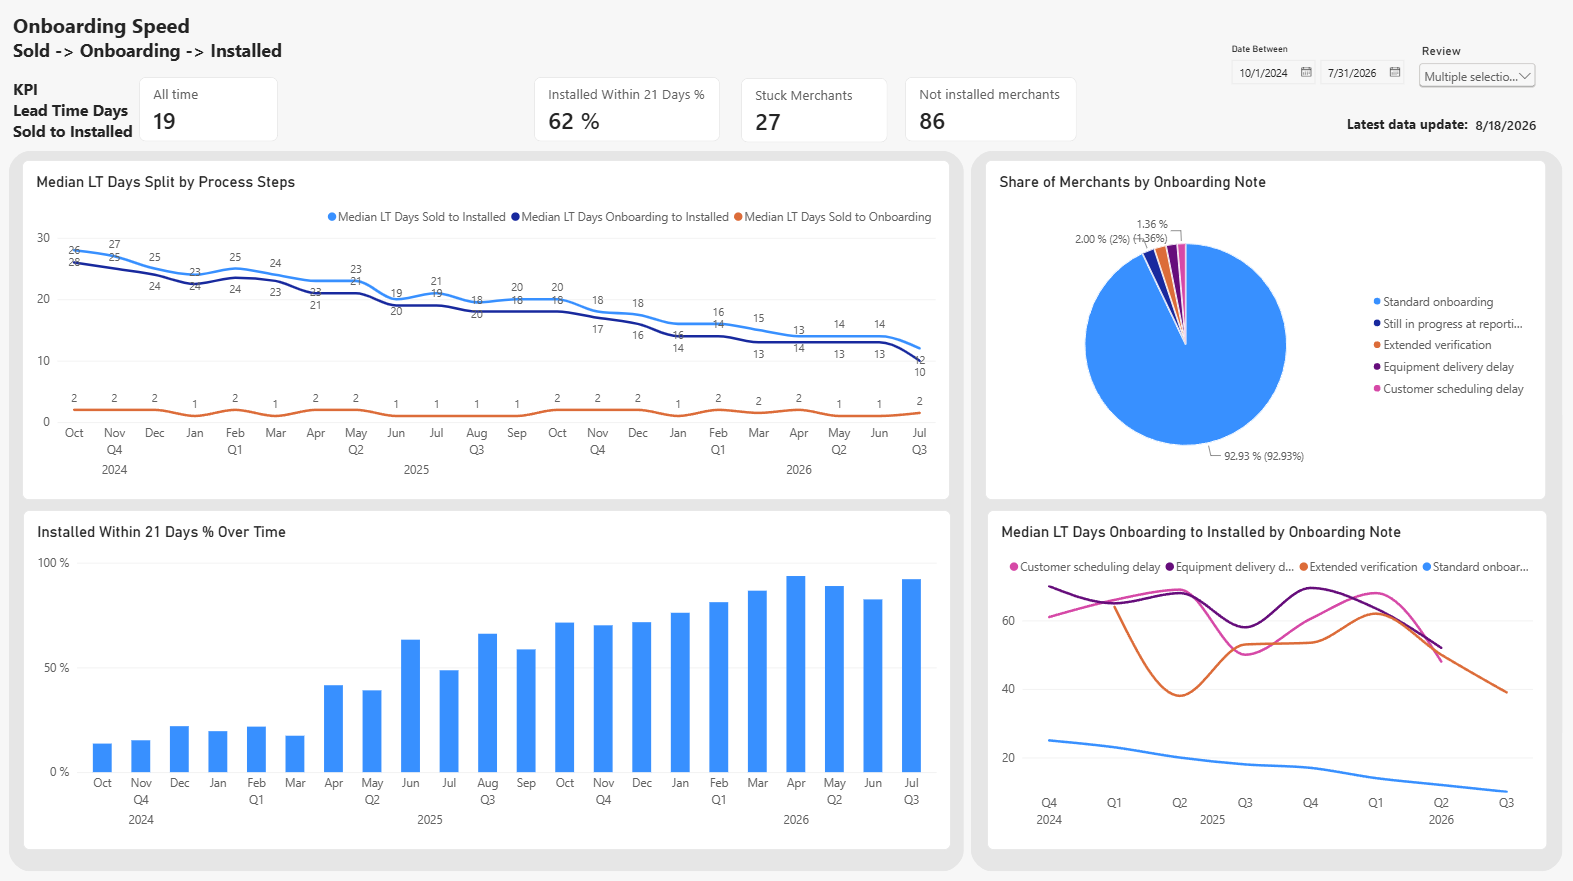

Layout of this report page (visuals, bound fields, positions):
{"tool":"powerbi","page":{"name":"Onboarding Speed","canvas":[1920,1080],"ordinal":4},"visuals":[{"type":"textbox","box":[1628.8,161.2,156.2,28.8],"z":0,"group":"g1"},{"type":"shape","box":[1180,203.8,706.2,860],"z":0},{"type":"cardVisual","fields":{"Data":["_Measures.Latest date"]},"box":[1766.3,151.2,108,42],"z":1000,"group":"g1"},{"type":"shape","box":[31.2,203.8,1140,860],"z":1000},{"type":"lineChart","title":"Median LT Days Split by Process Steps","fields":{"Category":["Date.Year Hierarchy.Year","Date.Year Hierarchy.Quarter","Date.Year Hierarchy.Month"],"Y":["_Measures.Median LT Days Sold to Installed","_Measures.Median LT Days Onboarding to Installed","_Measures.Median LT Days Sold to Onboarding"]},"box":[47,215,1108,406],"z":2000},{"type":"textbox","title":"Title","box":[36,37,1028,72],"z":3000},{"type":"textbox","box":[36.2,117.5,150,83.8],"z":4000},{"type":"cardVisual","fields":{"Data":["_Measures.Median LT Days Sold to Installed"]},"box":[186.2,116.2,166.2,77.5],"z":5000},{"type":"slicer","title":"Review Slicer","fields":{"Values":["Transactions.review_flag"]},"box":[1710,76.2,148.8,67.5],"z":6000},{"type":"group","id":"g1","title":"Last data update","box":[1628.8,151.2,245,42.5],"z":7000},{"type":"slicer","fields":{"Values":["Date.Date"]},"box":[1482.5,76.2,225,55],"z":8000},{"type":"cardVisual","fields":{"Data":["_Measures.Installed Within 21 Days %"]},"box":[657.5,116.2,222.5,77.5],"z":9000},{"type":"cardVisual","fields":{"Data":["_Measures.Stuck Merchants"]},"box":[905,117.5,175,77.5],"z":10000},{"type":"columnChart","title":"Installed Within 21 Days % Over Time","fields":{"Category":["Date.Year Hierarchy.Year","Date.Year Hierarchy.Quarter","Date.Year Hierarchy.Month"],"Y":["_Measures.Installed Within 21 Days %"]},"box":[47.5,633,1108,406],"z":11000},{"type":"cardVisual","fields":{"Data":["CountNonNull(Merchants.is_installed)"]},"box":[1100.8,115.7,205.5,77.6],"z":12000},{"type":"lineChart","title":"Median LT Days Onboarding to Installed by Onboarding Note ","fields":{"Category":["Merchants.sold_quarter Hierarchy.sold_year","Merchants.sold_quarter Hierarchy.sold_quarter","Merchants.sold_quarter Hierarchy.sold_month"],"Series":["Merchants.onboarding_note"],"Y":["_Measures.Median LT Days Onboarding to Installed"]},"box":[1198.3,632.3,668.7,405.5],"z":13001},{"type":"pieChart","title":"Share of Merchants by Onboarding Note","fields":{"Category":["Merchants.onboarding_note"],"Y":["_Measures.Share of Merchants %"]},"box":[1196.7,215.2,670.3,405.5],"z":13002}]}

Visuals, with their boxes in screenshot pixels (x1, y1, x2, y2), scaled from the page's 1920x1080 canvas onto the 1573x881 screenshot:
textbox: detection(1334, 131, 1462, 155)
shape: detection(967, 166, 1545, 868)
cardVisual - _Measures.Latest date: detection(1447, 123, 1536, 158)
shape: detection(26, 166, 960, 868)
"Median LT Days Split by Process Steps" lineChart: detection(39, 175, 946, 507)
"Title" textbox: detection(29, 30, 872, 89)
textbox: detection(30, 96, 153, 164)
cardVisual - _Measures.Median LT Days Sold to Installed: detection(153, 95, 289, 158)
"Review Slicer" slicer: detection(1401, 62, 1523, 117)
"Last data update" group: detection(1334, 123, 1535, 158)
slicer - Date.Date: detection(1215, 62, 1399, 107)
cardVisual - _Measures.Installed Within 21 Days %: detection(539, 95, 721, 158)
cardVisual - _Measures.Stuck Merchants: detection(741, 96, 885, 159)
"Installed Within 21 Days % Over Time" columnChart: detection(39, 516, 947, 848)
cardVisual - CountNonNull(Merchants.is_installed): detection(902, 94, 1070, 158)
"Median LT Days Onboarding to Installed by Onboarding Note " lineChart: detection(982, 516, 1530, 847)
"Share of Merchants by Onboarding Note" pieChart: detection(980, 176, 1530, 506)
